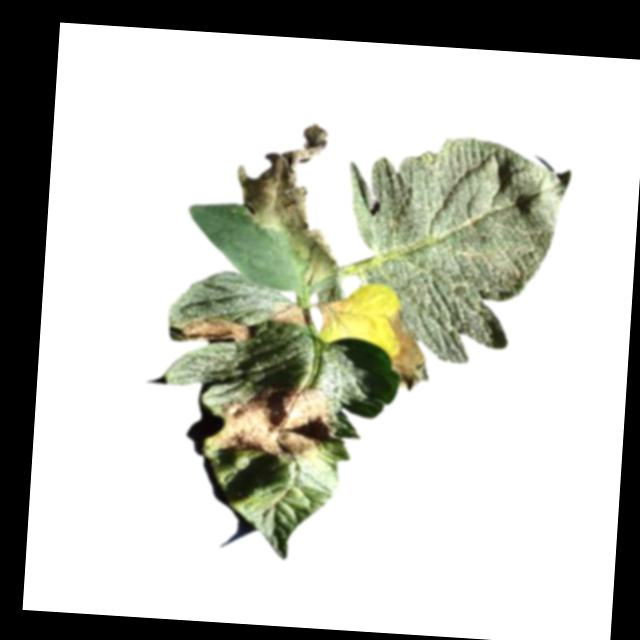Late_blight: (232, 119, 346, 286), (208, 377, 342, 466), (383, 307, 431, 390), (181, 313, 254, 349), (315, 295, 352, 332), (267, 304, 311, 328)
healthy: (335, 129, 573, 370)
